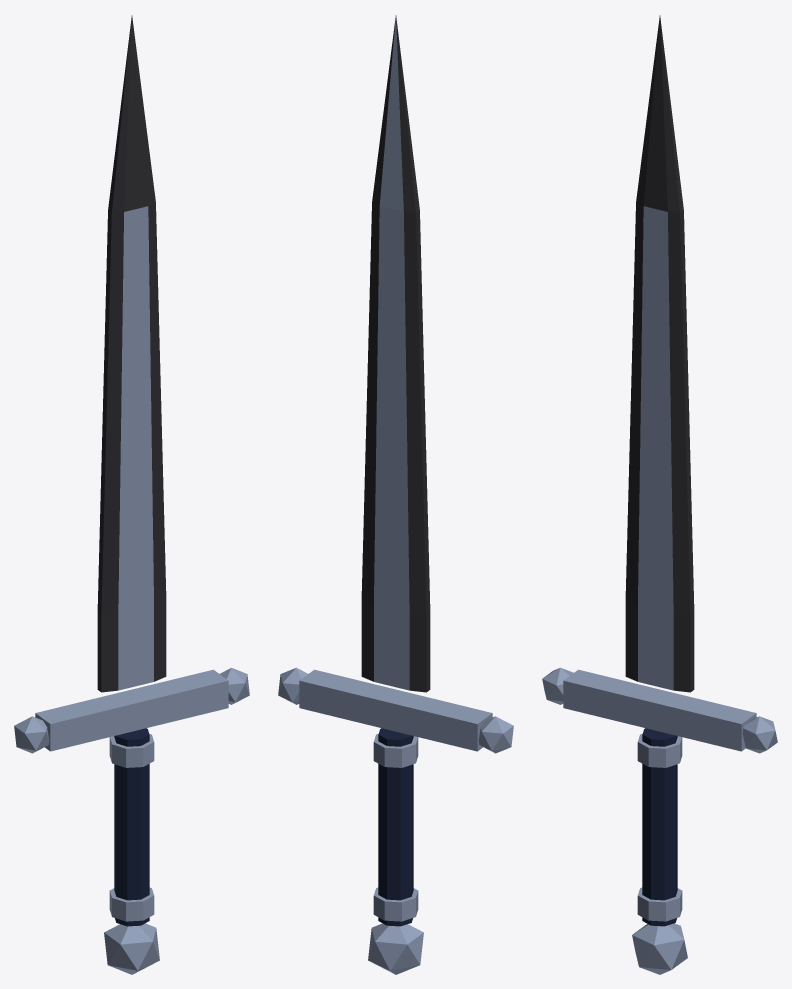
The model's file is winter_sword.glb.
3 views of the same model, side by side, from view 1: azimuth 30°, elevation 25°; view 2: azimuth 150°, elevation 25°; view 3: azimuth 330°, elevation 25° (orthographic).
Visible parts, largest first — view 1: winter_sword; view 2: winter_sword; view 3: winter_sword.
Boxes of the visible parts, left/top/right/bottom form: winter_sword: left=14, top=15, right=249, bottom=974; winter_sword: left=278, top=15, right=513, bottom=974; winter_sword: left=542, top=15, right=777, bottom=974.
Size of the model in its own units: 0.4408 by 1.75 by 0.0885.
